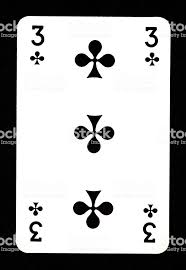three of clubs: (17, 17, 169, 255)
